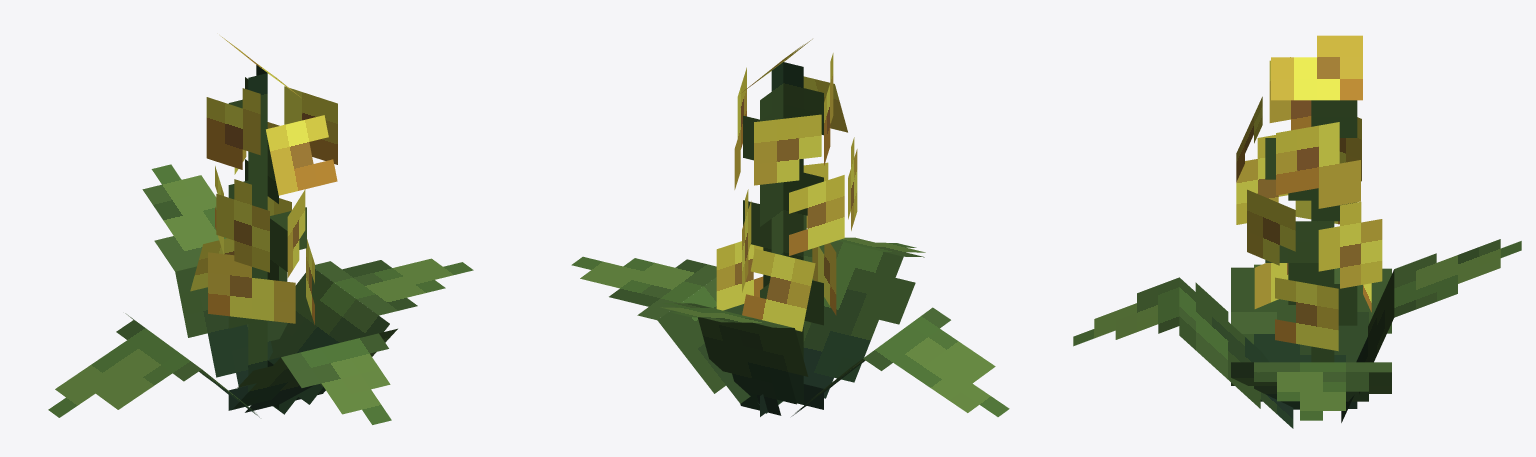
The model's file is flower-yellow.gltf.
3 renders of one model, left to right at view 1: azimuth 30°, elevation 25°; view 2: azimuth 150°, elevation 25°; view 3: azimuth 270°, elevation 25°, orthographic. The views are drawn at different scales.
Visible parts, largest first — view 1: cube; view 2: cube; view 3: cube.
Boxes of the visible parts, box(x1,y1,x2,y2) form: cube: box(48, 36, 473, 424); cube: box(571, 39, 1009, 416); cube: box(1073, 35, 1521, 428).
Size of the model in its own units: 1.32 by 1.13 by 1.22.
1 material, 1 textured.
